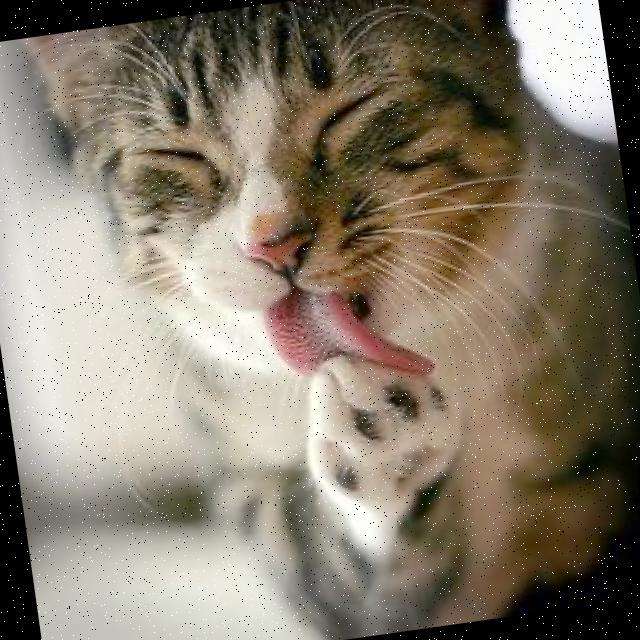Happy: (66, 27, 536, 454)
